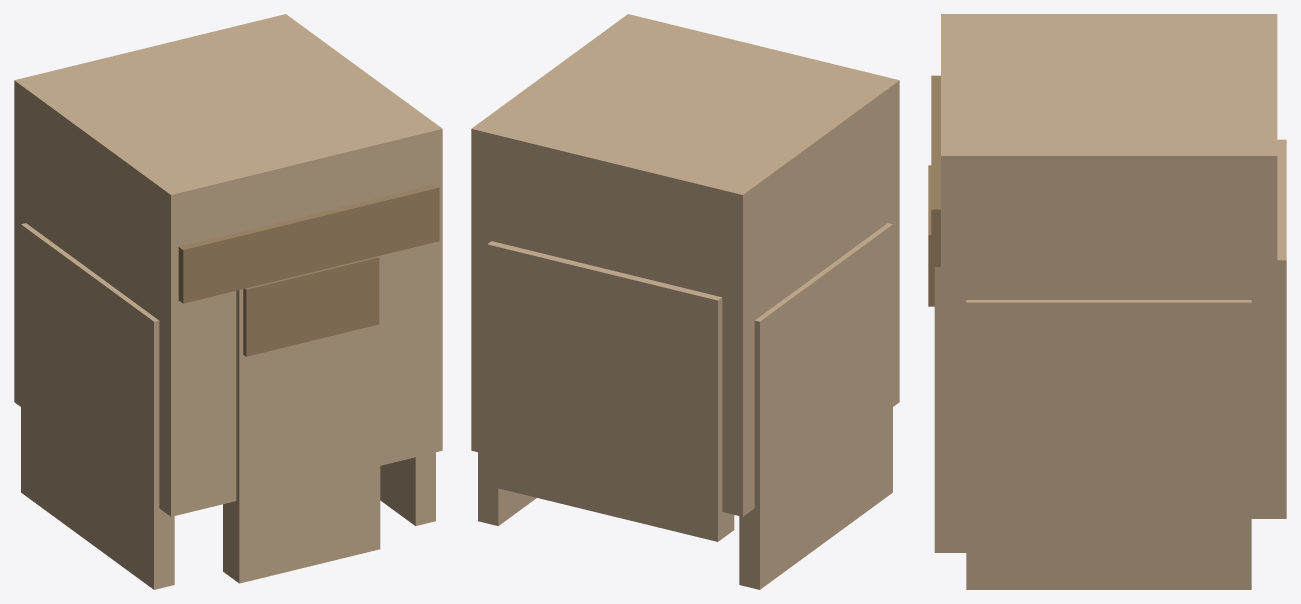
File: equip_head_bronze_full_helm.glb
3 views of the same model, side by side, from view 1: azimuth 30°, elevation 25°; view 2: azimuth 150°, elevation 25°; view 3: azimuth 270°, elevation 25° (orthographic). The views are drawn at different scales.
Parts seen in each view (by area): view 1: equip_head_bronze_full_helm; view 2: equip_head_bronze_full_helm; view 3: equip_head_bronze_full_helm.
Part boxes in pixels (x1,y1,x2,y2): equip_head_bronze_full_helm: (14,14,442,589); equip_head_bronze_full_helm: (471,14,899,589); equip_head_bronze_full_helm: (928,14,1286,589).
Bounding box in the file's own units: 0.22 × 0.3 × 0.226.
